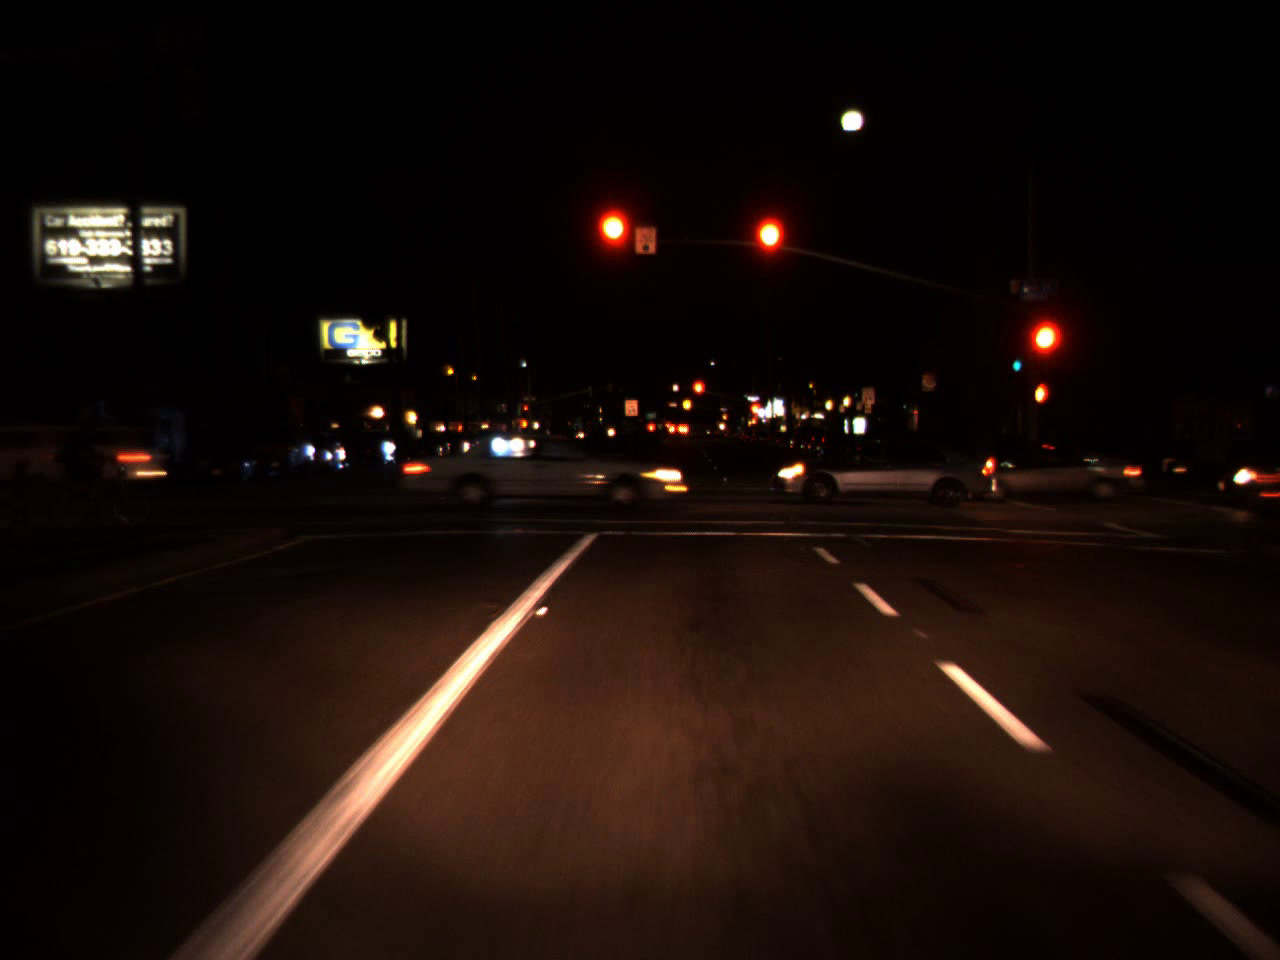stop: (1023, 314, 1062, 392), (750, 214, 787, 292), (595, 204, 632, 279), (691, 379, 706, 408), (748, 402, 761, 418), (523, 405, 529, 415)
warning: (681, 393, 693, 413), (721, 411, 727, 421)
